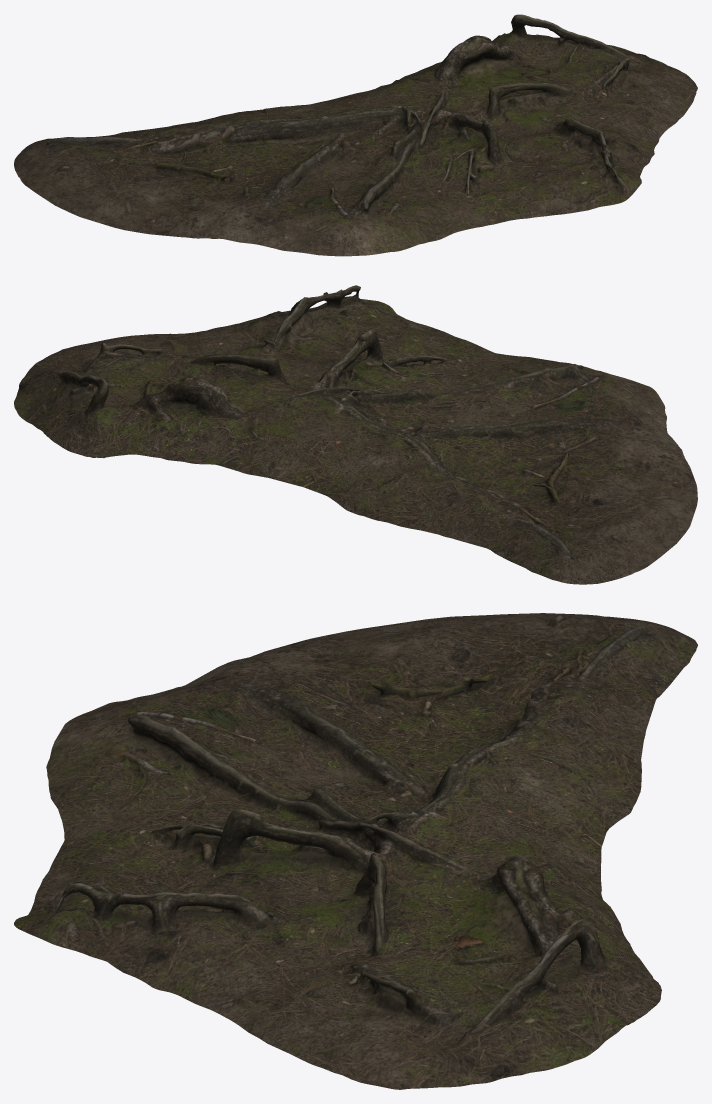
Rendered from pine_roots_b.fbx.
The picture shows the model from 3 angles, top to bottom: view 1: azimuth 30°, elevation 25°; view 2: azimuth 150°, elevation 25°; view 3: azimuth 270°, elevation 25°; orthographic projection. The views are drawn at different scales.
Parts seen in each view (by area): view 1: pine_roots_b; view 2: pine_roots_b; view 3: pine_roots_b.
Boxes of the visible parts, bbox=[...] form: pine_roots_b: bbox=[14, 14, 697, 256]; pine_roots_b: bbox=[14, 285, 697, 584]; pine_roots_b: bbox=[14, 613, 697, 1089].
Bounding box in the file's own units: 64.13 × 39.09 × 5.78.
